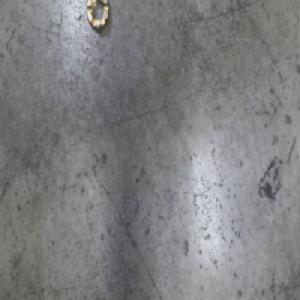Nut: (84, 0, 111, 37)
